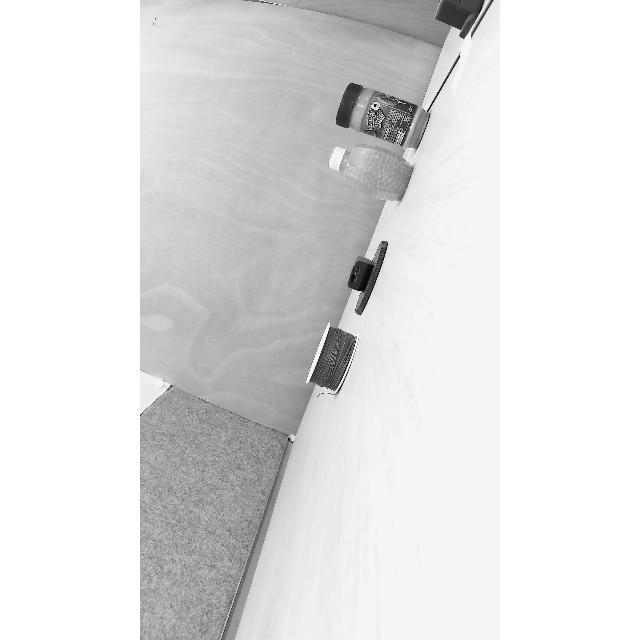targets: (336, 83, 434, 151), (327, 137, 413, 203), (300, 322, 362, 400), (344, 238, 394, 318), (438, 0, 487, 40)
